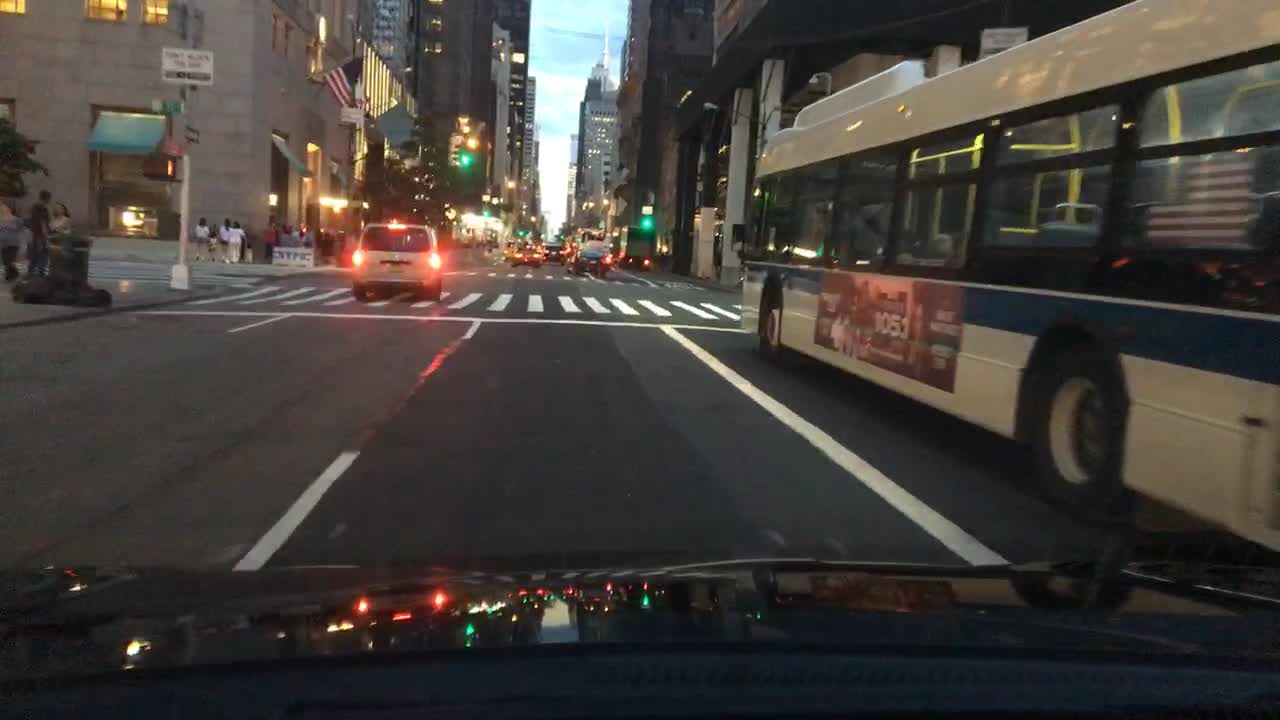bus: (739, 0, 1278, 552)
car: (349, 218, 441, 301), (567, 239, 610, 275), (508, 248, 543, 266), (541, 245, 565, 265), (501, 239, 514, 260), (520, 239, 541, 251)
person: (26, 187, 56, 275), (47, 200, 72, 279), (0, 199, 23, 281), (228, 218, 246, 263), (263, 215, 278, 262), (216, 215, 230, 260), (194, 215, 207, 260), (321, 230, 332, 265), (291, 221, 305, 248), (207, 223, 218, 257), (279, 221, 291, 247), (302, 223, 314, 248)
traffic light: (460, 145, 469, 167), (481, 206, 489, 220), (642, 218, 651, 230), (517, 227, 526, 239)
traffic sign: (161, 47, 213, 85), (339, 106, 363, 122), (442, 206, 454, 220), (640, 205, 652, 215)
truck: (616, 224, 654, 269)
